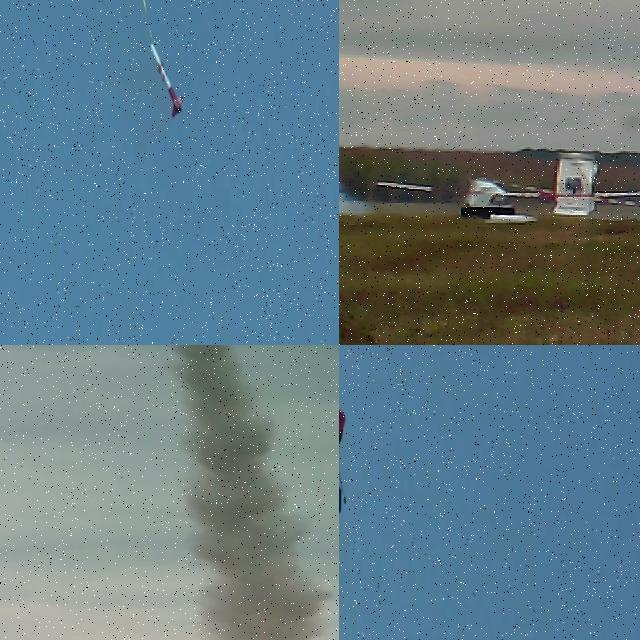Rocket: (150, 43, 183, 118), (339, 485, 341, 513)
